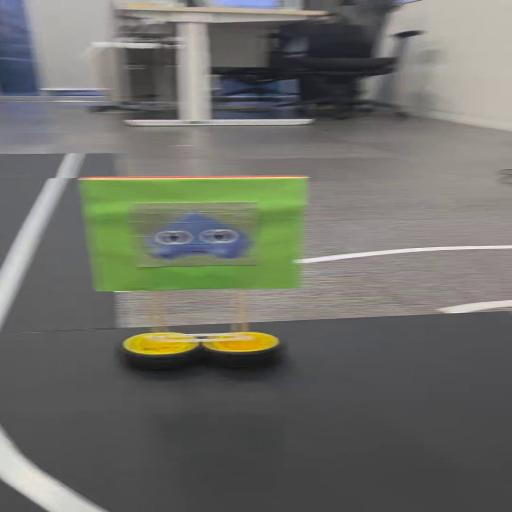Sign_B: (65, 170, 328, 387)
